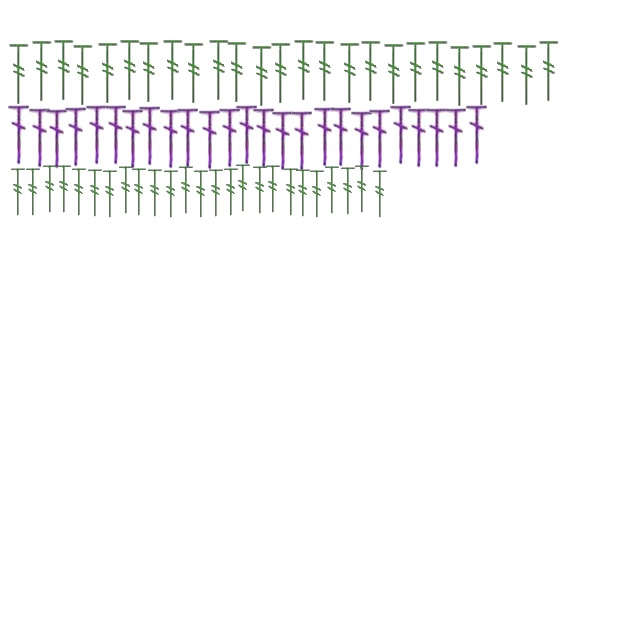double treble: (8, 102, 30, 166), (46, 106, 68, 170), (86, 102, 108, 166), (122, 106, 144, 170), (160, 106, 182, 170), (236, 102, 258, 166), (272, 108, 294, 172), (314, 104, 336, 168), (330, 104, 352, 168), (390, 102, 412, 166), (466, 102, 488, 166), (408, 106, 430, 168), (426, 106, 448, 168), (66, 104, 86, 168), (106, 102, 126, 166), (292, 108, 312, 172), (352, 108, 372, 172), (370, 106, 390, 170), (30, 106, 50, 168), (140, 104, 160, 166), (178, 106, 198, 168), (200, 108, 220, 170), (220, 106, 240, 168), (254, 106, 274, 168), (446, 106, 466, 168)
fan: (7, 42, 31, 106), (30, 39, 54, 103), (52, 38, 76, 102), (71, 43, 95, 107), (96, 41, 120, 105), (118, 38, 142, 102), (137, 40, 161, 104), (161, 38, 185, 102), (182, 41, 206, 105), (207, 38, 231, 102), (225, 40, 249, 104), (250, 44, 274, 108), (269, 41, 293, 105), (292, 38, 316, 102), (313, 39, 337, 103), (338, 41, 362, 105), (359, 39, 383, 103), (382, 42, 406, 106), (404, 40, 428, 104), (426, 39, 450, 103), (448, 44, 472, 108), (470, 43, 494, 107), (491, 40, 515, 104), (515, 43, 539, 107), (537, 39, 561, 103), (9, 166, 27, 218), (24, 166, 42, 218), (41, 163, 59, 215), (55, 163, 73, 215), (70, 166, 88, 218), (86, 167, 104, 219), (101, 168, 119, 220), (117, 164, 135, 216), (130, 166, 148, 218), (146, 167, 164, 219), (162, 168, 180, 220), (177, 164, 195, 216), (192, 168, 210, 220), (207, 167, 225, 219), (222, 166, 240, 218), (234, 162, 252, 214), (251, 164, 269, 216), (264, 163, 282, 215), (282, 166, 300, 218), (294, 167, 312, 219), (308, 168, 326, 220), (323, 164, 341, 216), (339, 165, 357, 217), (353, 163, 371, 215), (371, 168, 389, 220)
